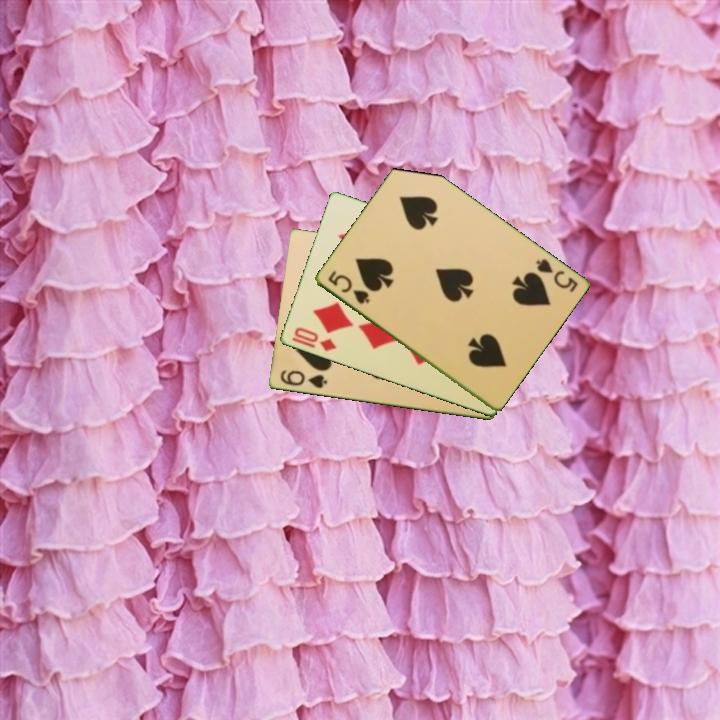10d: (290, 324, 339, 355)
5s: (532, 255, 581, 296), (324, 267, 372, 307)
6s: (276, 367, 330, 391)
